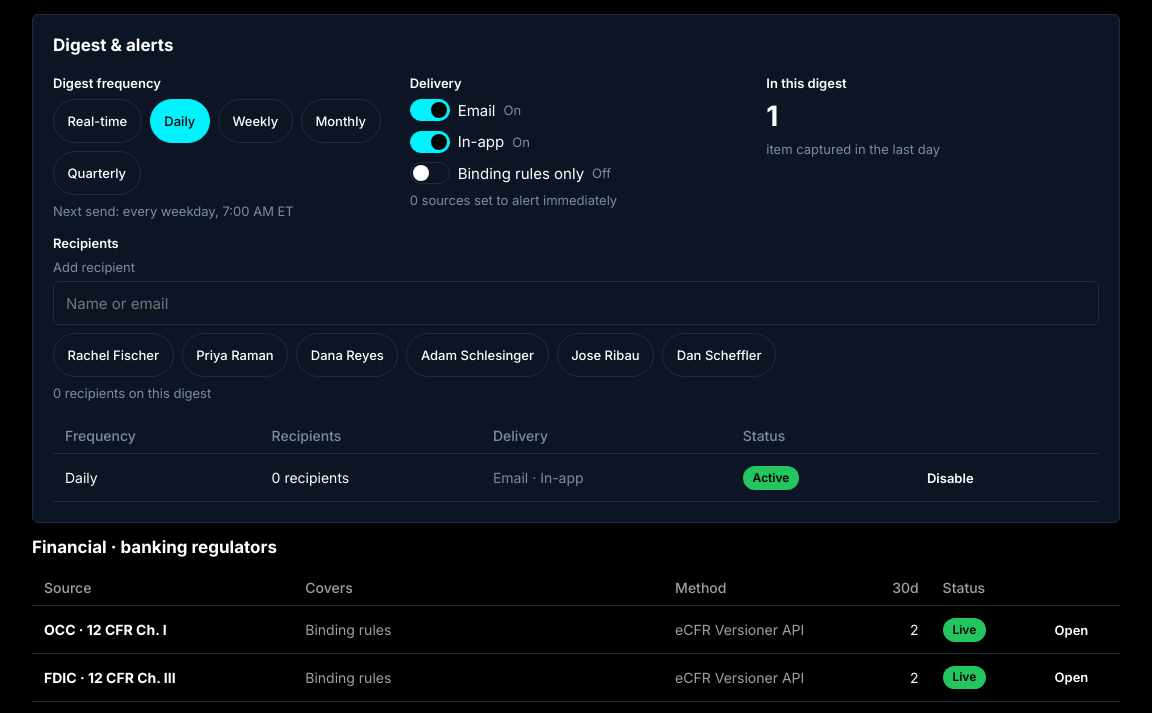
Test: Settings · Toggles — digest recipients (D7: AD roster, Chip filter reuse) › the recipient Input reports an already-added match rather than double-adding
(page scrolled)
Click the button "Priya Raman" at (235, 355), box [182,333,288,377]
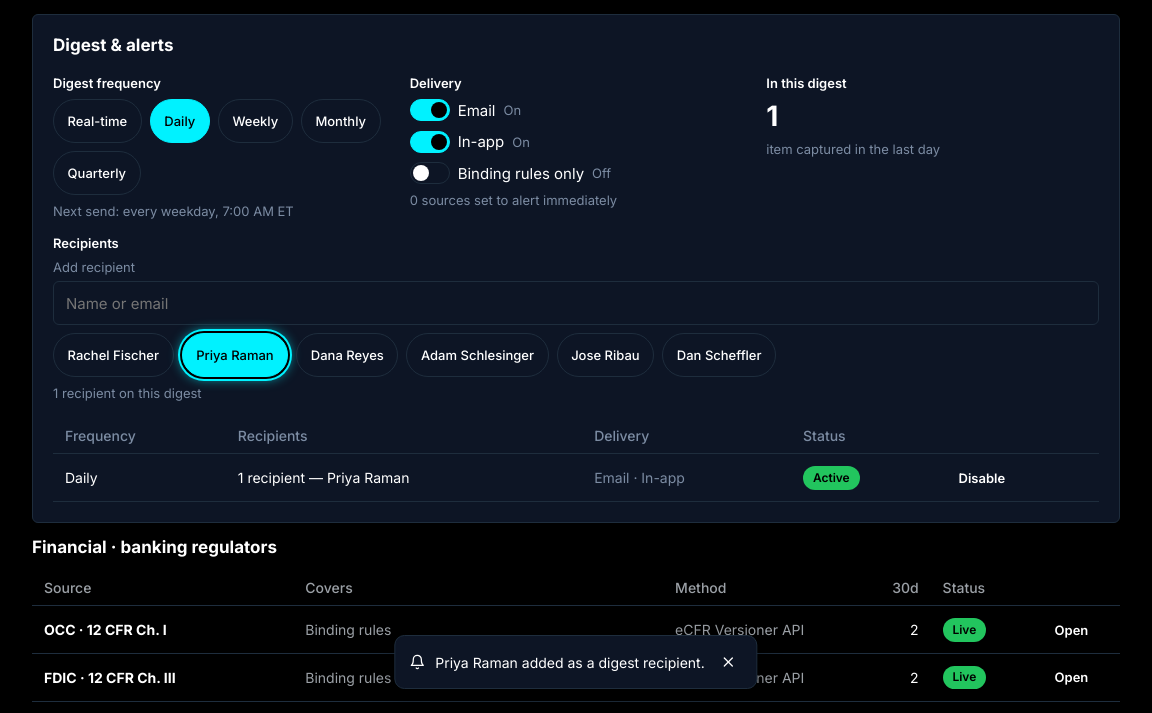
Type "priya.raman@northwindscu.org" into the field labelled "Add recipient" at (576, 303), box [53,281,1099,325]
Then press Enter
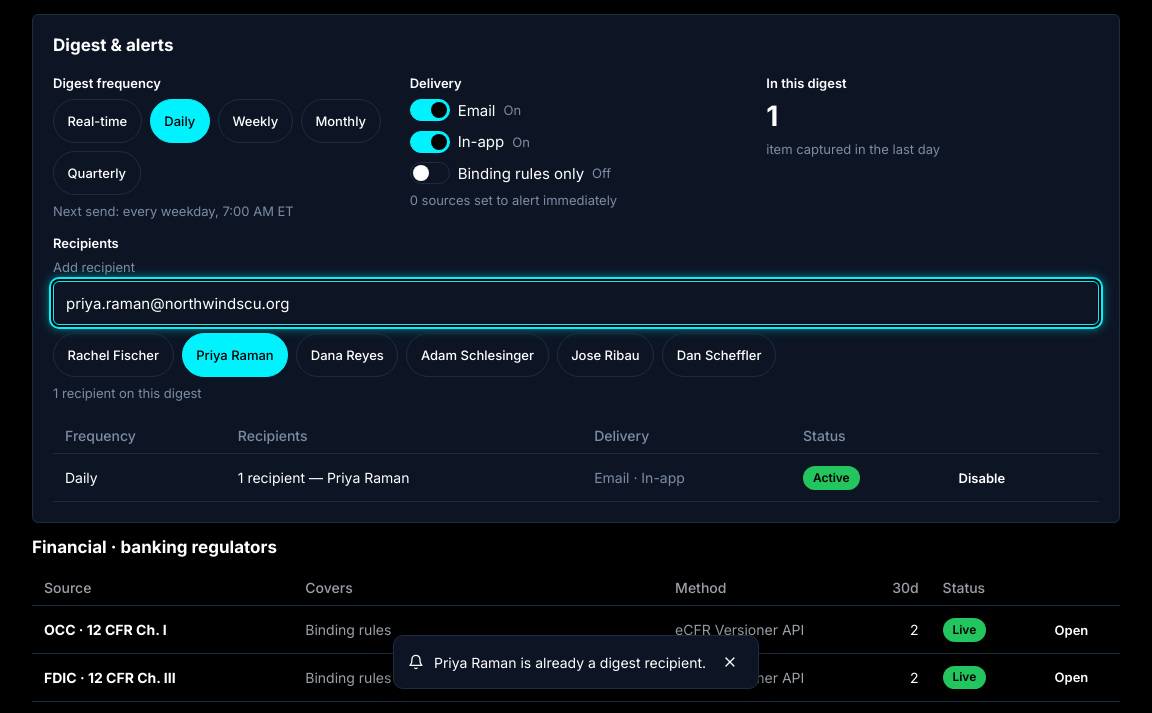
expect the text "Priya Raman is already a digest recipient." is shown: met, box [434,654,706,670]
